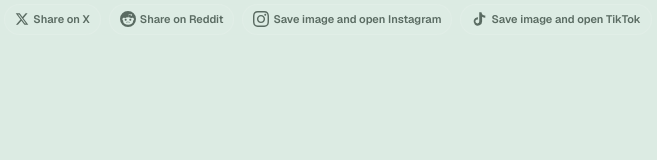
Test case: DirectShareRow honest degrade (no web intent on IG/TikTok) › Instagram: saves image + copies caption/quote/url + opens real home + inline hint
The image size is (657, 160).
What coordinates should you click on to do the following:
click the button "Save image and open Instagram"
I would click on:
 (347, 19)
Its box is [242,4,452,34].
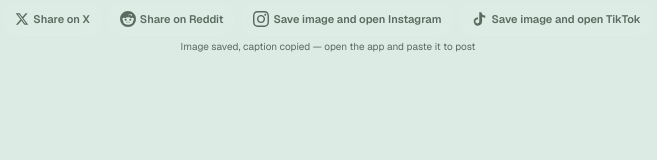
expect the text with test id "direct-share-hint" reads "Image saved, caption copied — open the app and paste it to post": met, box [180,40,476,52]
